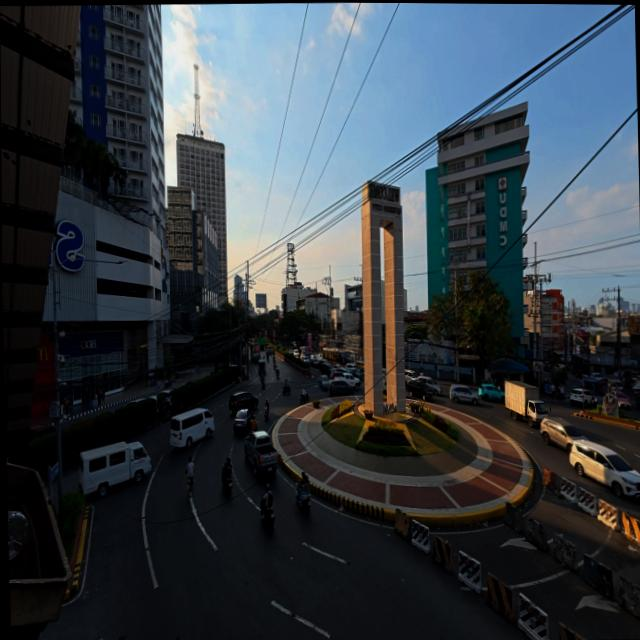car: (243, 426, 279, 473), (404, 372, 441, 398), (445, 382, 475, 402), (478, 382, 504, 400), (567, 387, 589, 405)
vans: (78, 440, 154, 500)
